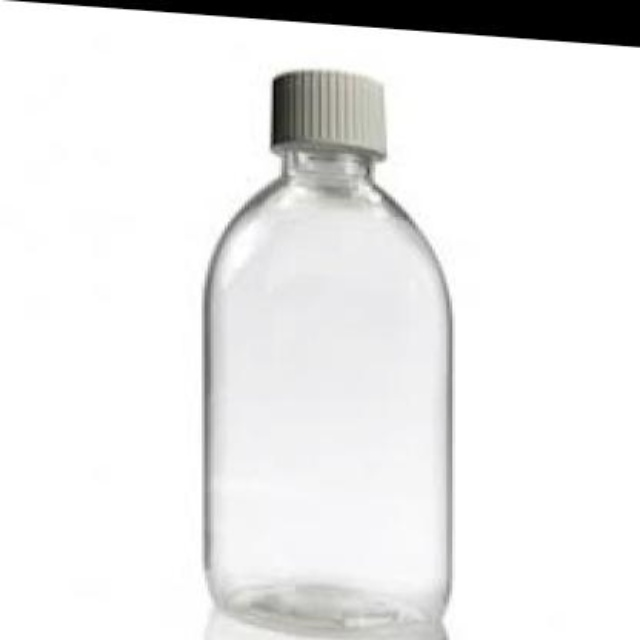trash: (205, 71, 451, 638)
